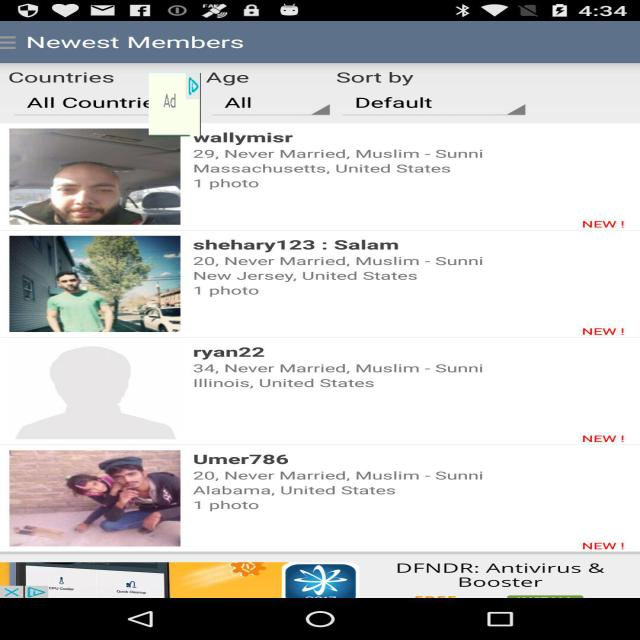sneaking: (149, 73, 201, 136)
